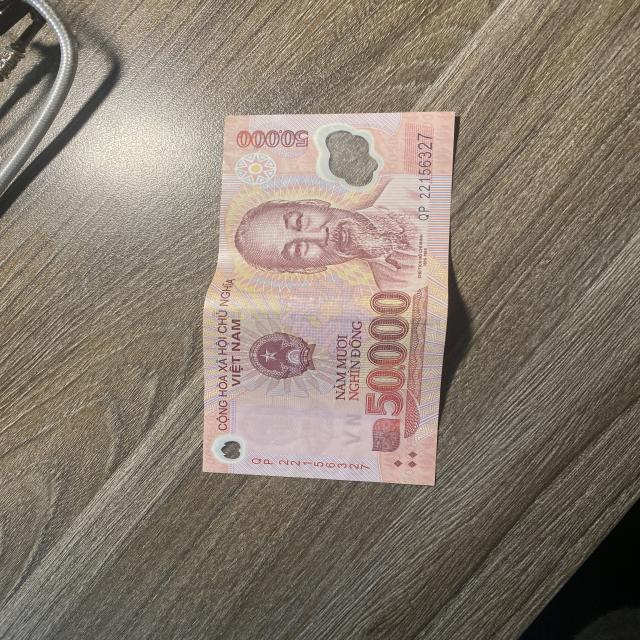50 000 VND: (203, 109, 457, 487)
